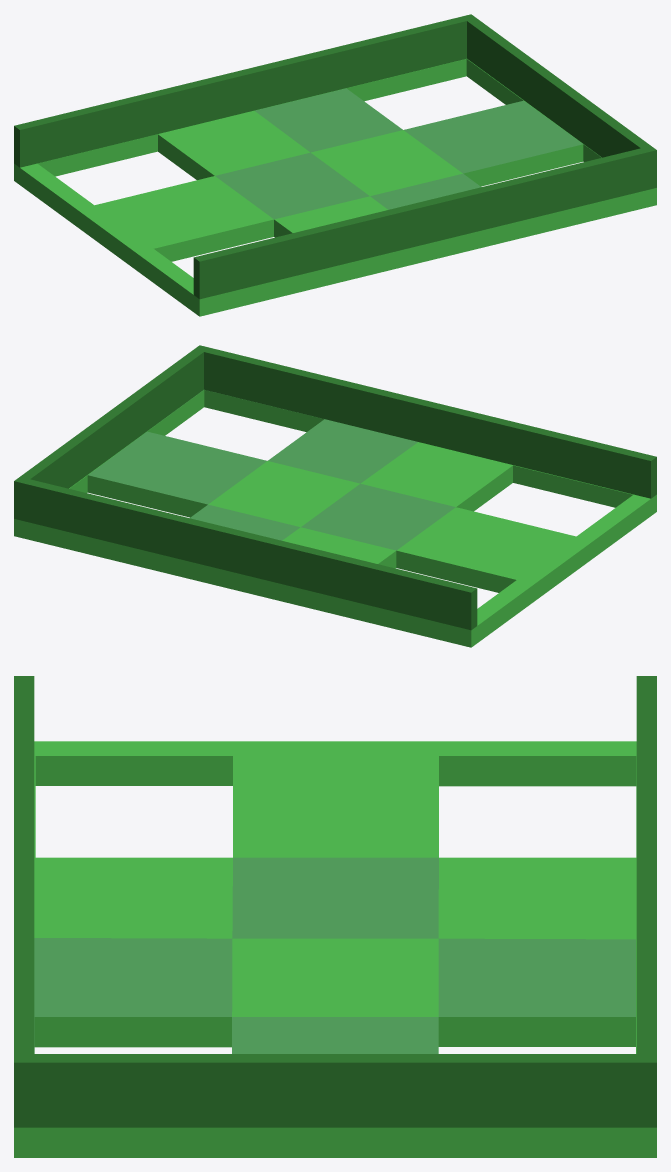
The model's file is floor3.2.fbx.
3 views of the same model, one above another, from view 1: azimuth 30°, elevation 25°; view 2: azimuth 150°, elevation 25°; view 3: azimuth 270°, elevation 25° (orthographic). The views are drawn at different scales.
Visible parts, largest first — view 1: pCube12; view 2: pCube12; view 3: pCube12.
Boxes of the visible parts, box(x1,y1,x2,y2) form: pCube12: box(14, 14, 656, 316); pCube12: box(14, 345, 656, 647); pCube12: box(14, 676, 656, 1157).
Bounding box in the file's own units: 22.4 × 2.58 × 15.75.
